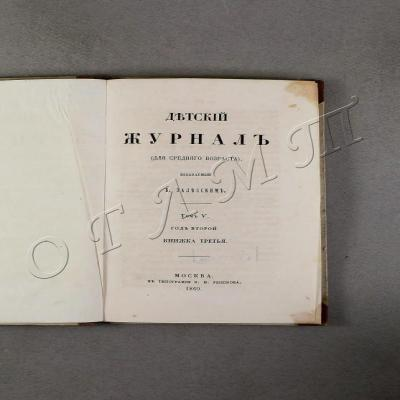rare_books: (0, 77, 329, 326)
